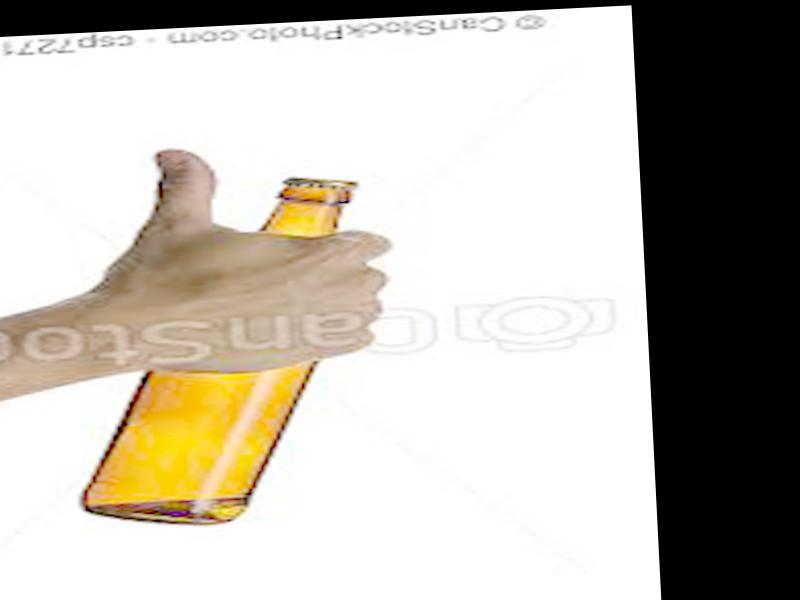Beer: (63, 177, 370, 530)
